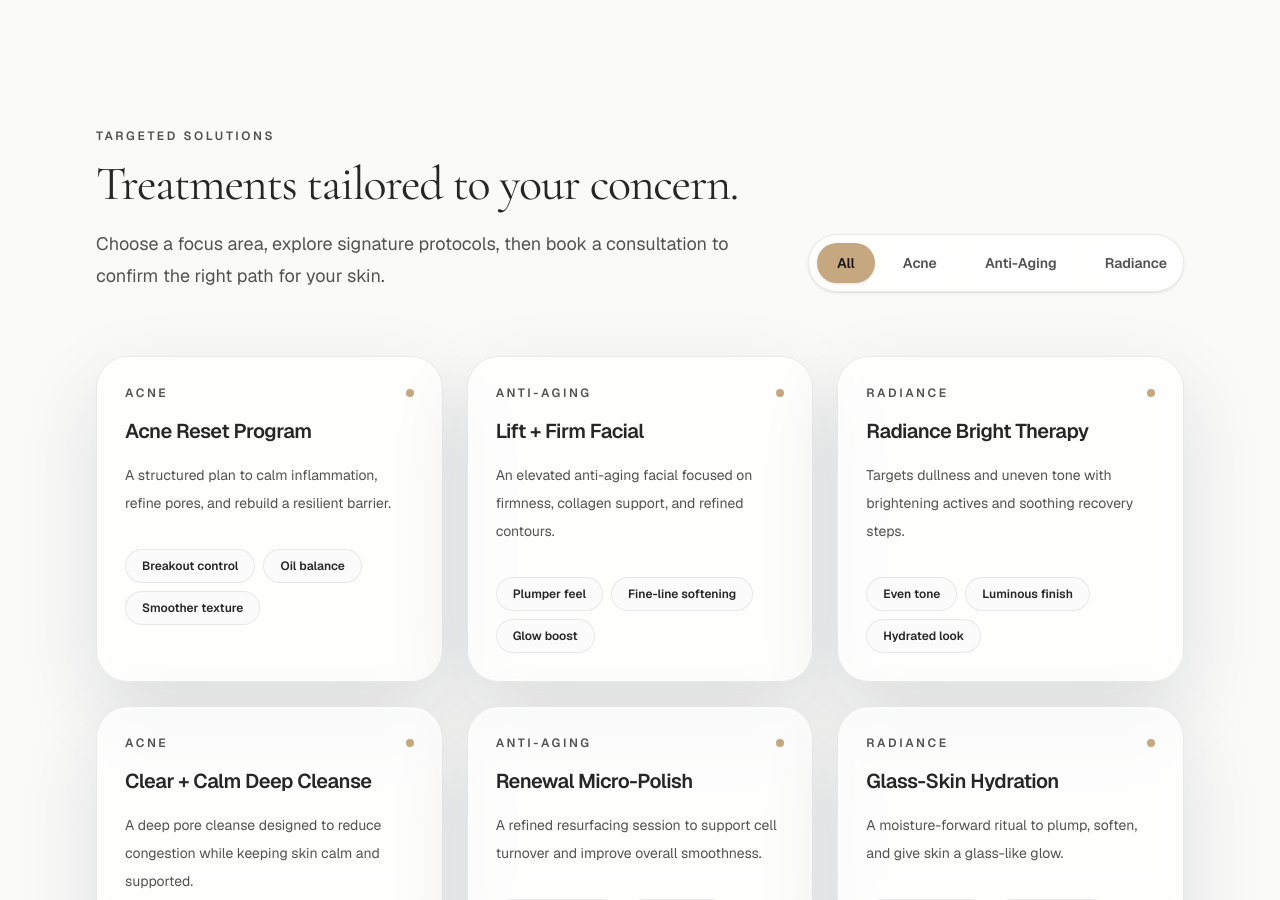
TreatmentsSection › filters treatments by category
The image size is (1280, 900).
Expected: the heading "Acne Reset Program" is shown, [125,418,312,444]
Expected: the heading "Lift + Firm Facial" is shown, [496,418,644,444]
Click the button "Acne": {"x": 920, "y": 263} [883,243,957,283]
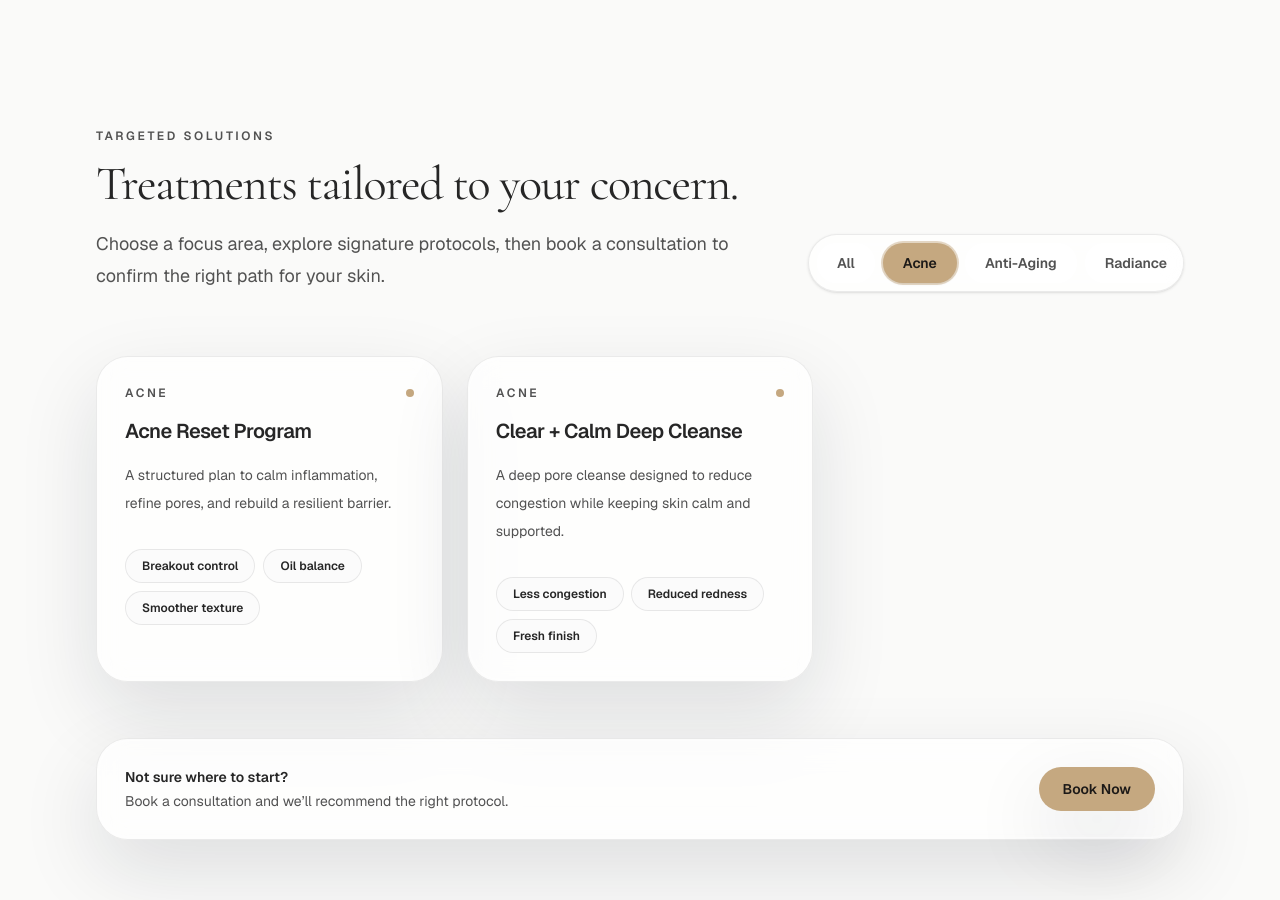
Expected: the heading "Acne Reset Program" is shown, [125,418,312,444]
Expected: the heading "Lift + Firm Facial" is gone
Click the button "Radiance": {"x": 1136, "y": 263} [1085,243,1187,283]
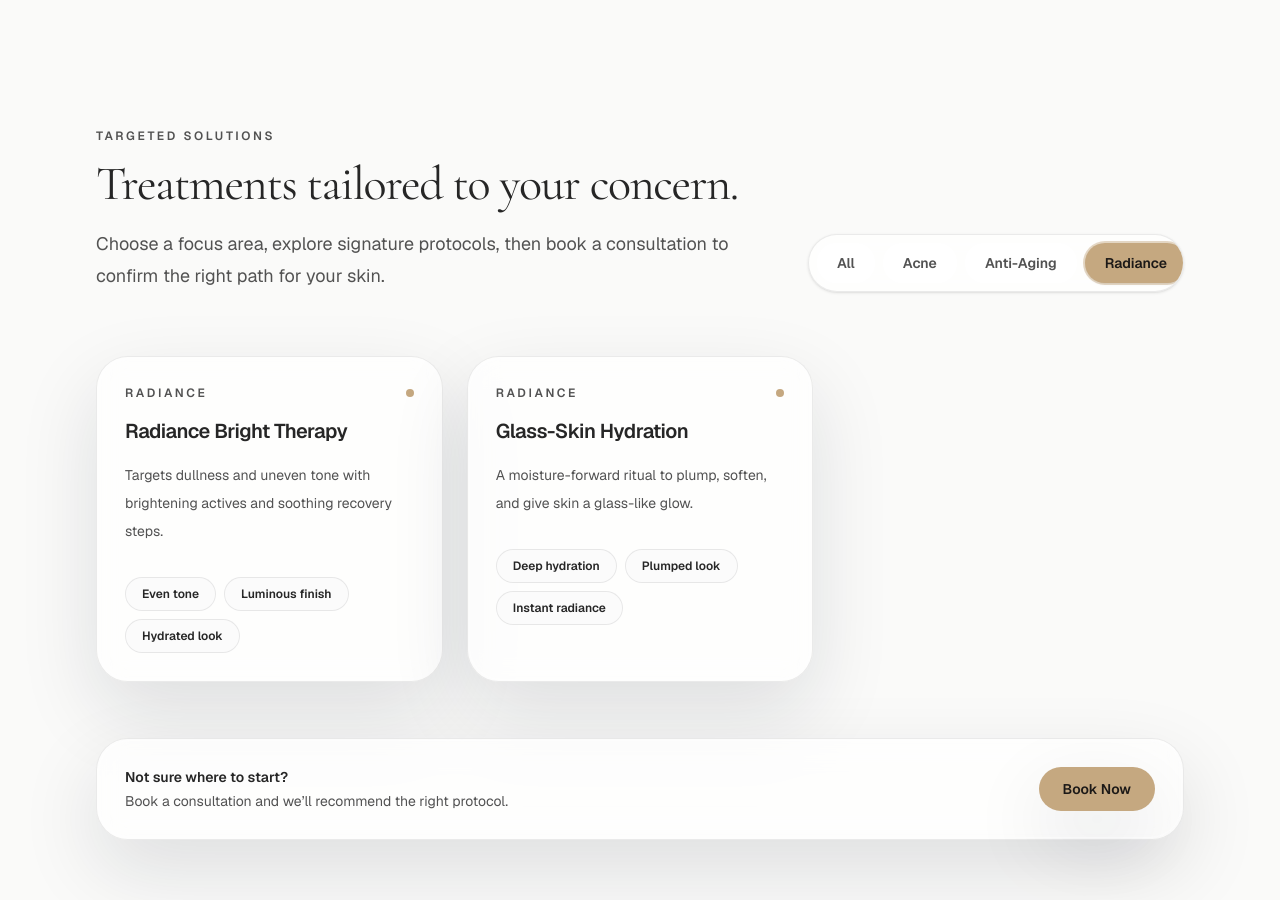
Expected: the heading "Radiance Bright Therapy" is shown, [125,418,347,444]
Expected: the heading "Glass-Skin Hydration" is shown, [496,418,688,444]
Expected: the heading "Acne Reset Program" is gone
